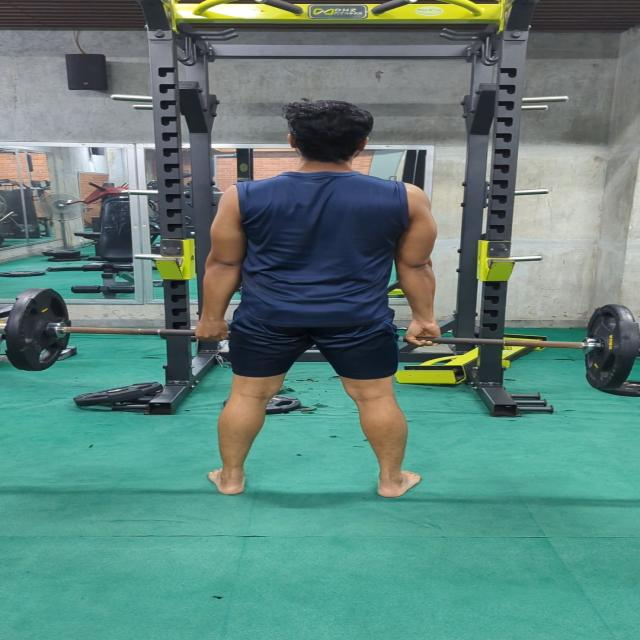Normal_Deadlifts: (190, 98, 439, 500)
